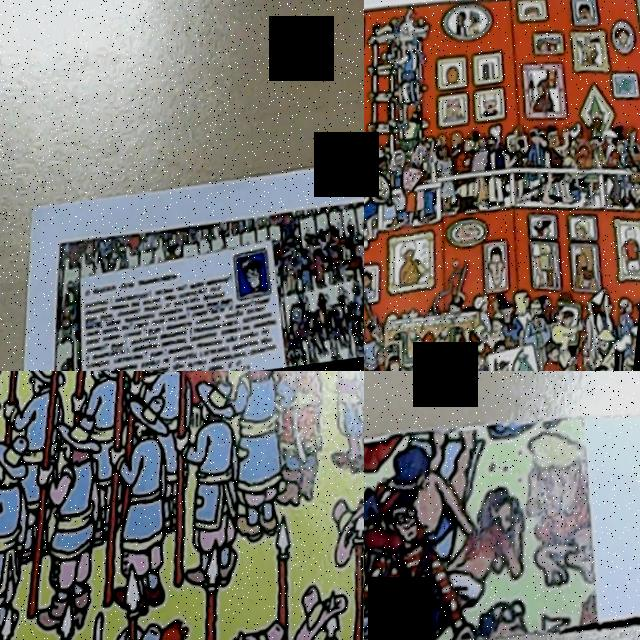waldo: (373, 470, 448, 563), (248, 255, 278, 294)
